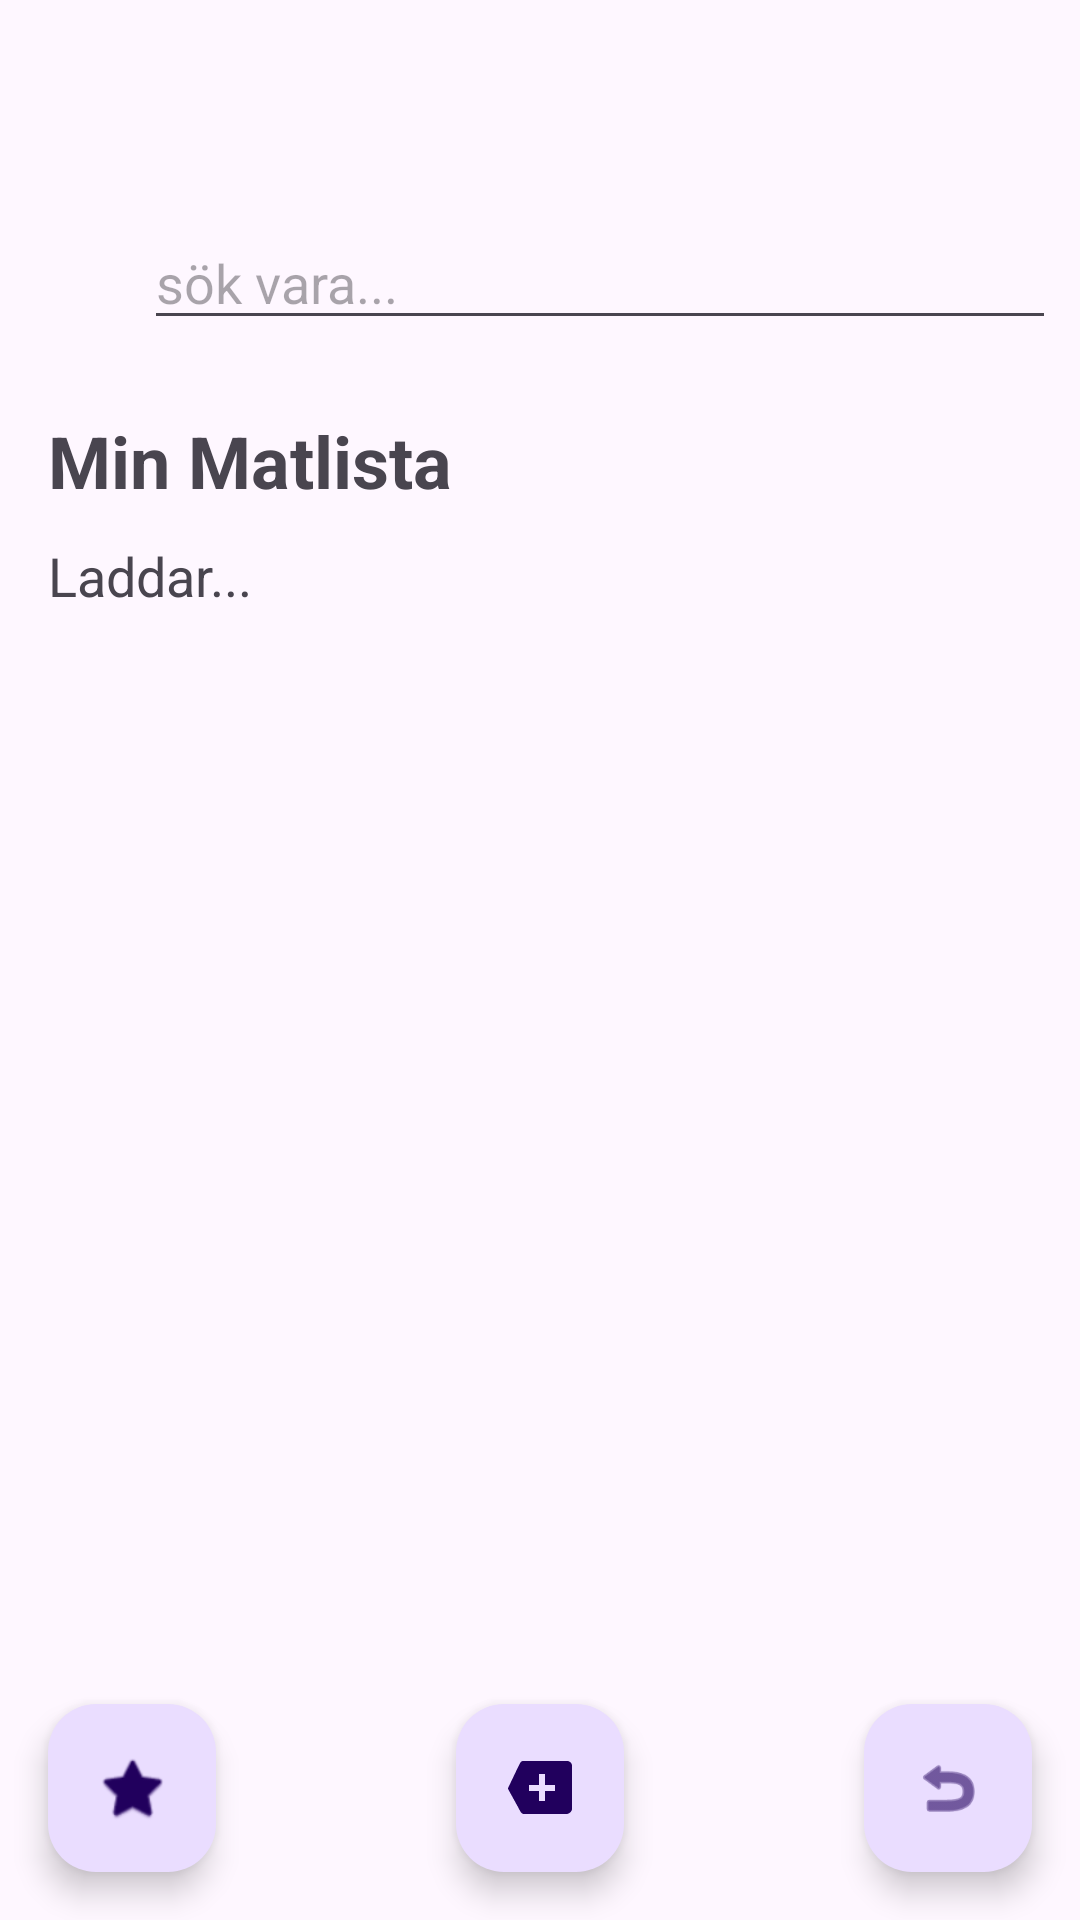

Icon bounding boxes for this 1080x1920 phone screenshot, format region(x1, y1, x2, y2):
revert: region(864, 1704, 1032, 1872)
star on: region(48, 1704, 216, 1872)
